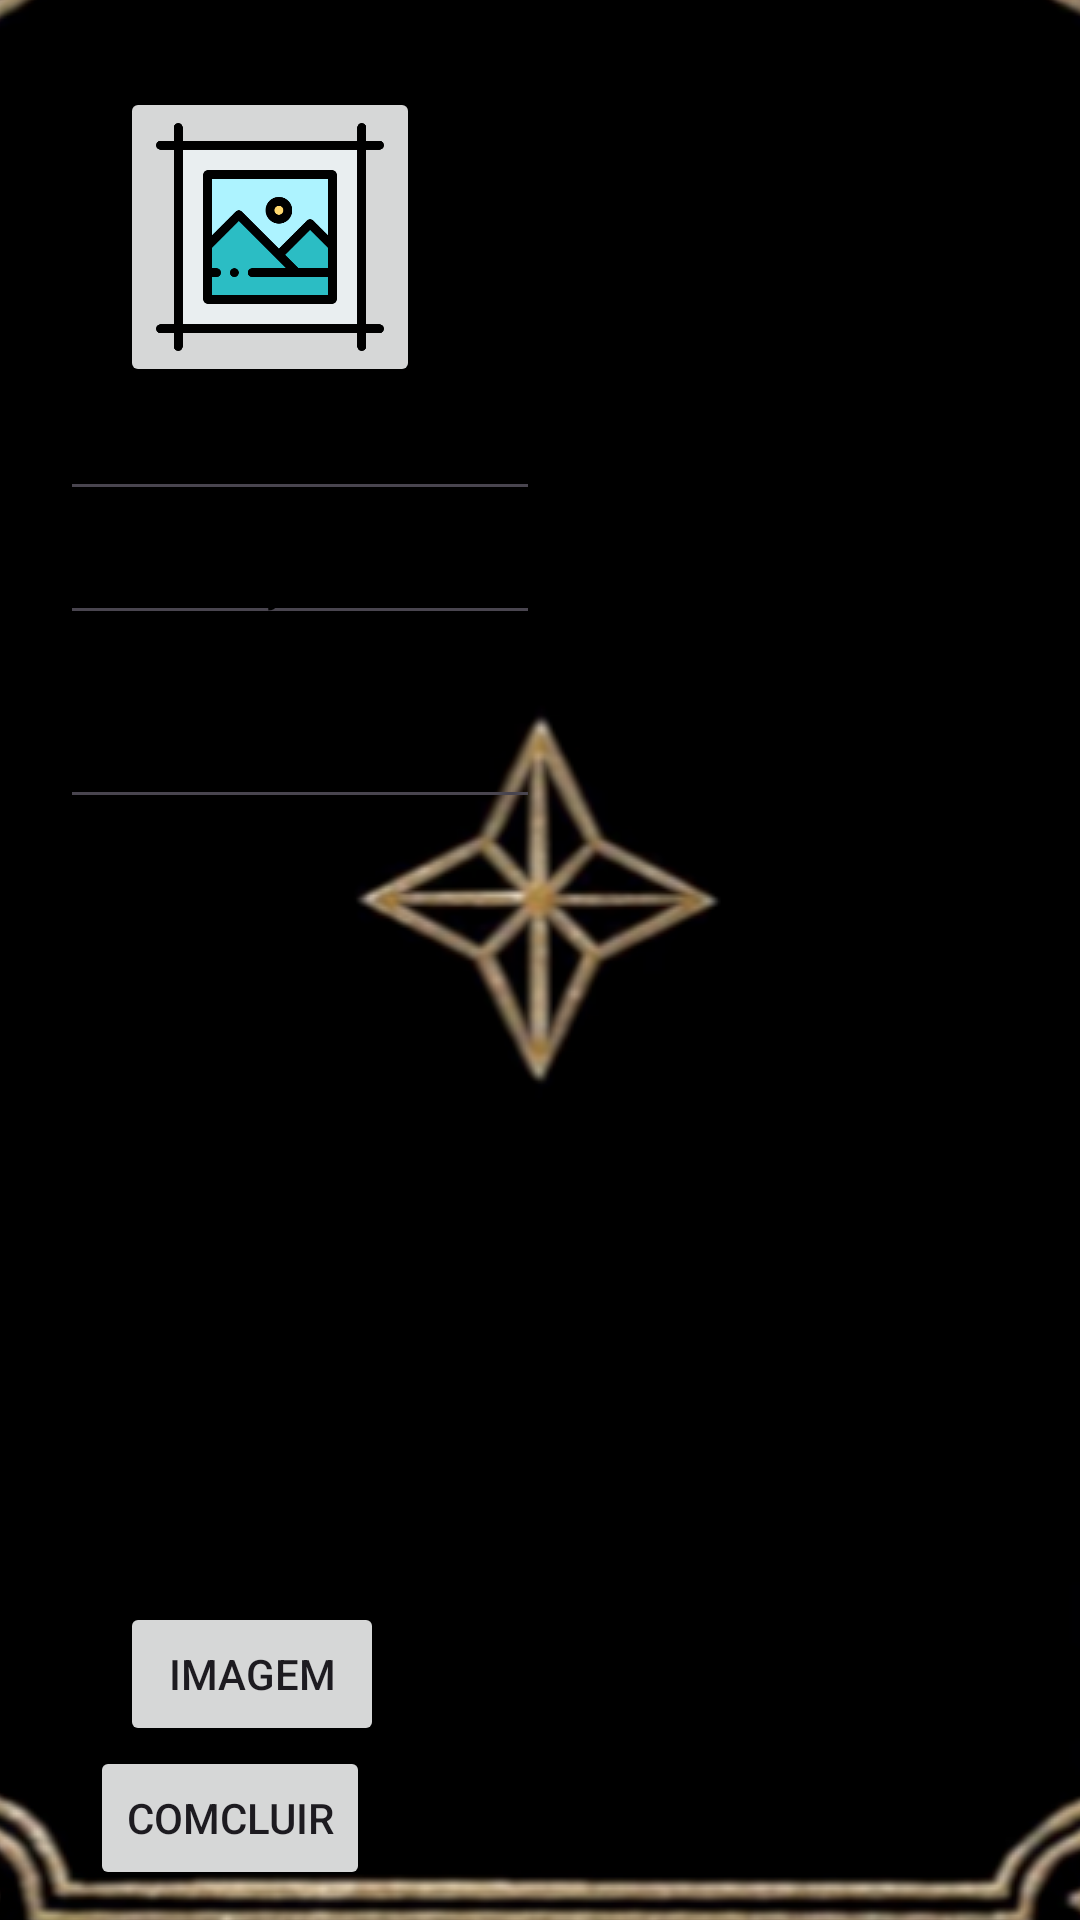

Point at icon controls on the screen. Image size 1080px×1920px, points as (x=x, y=y).
galeria: (x=270, y=237)
